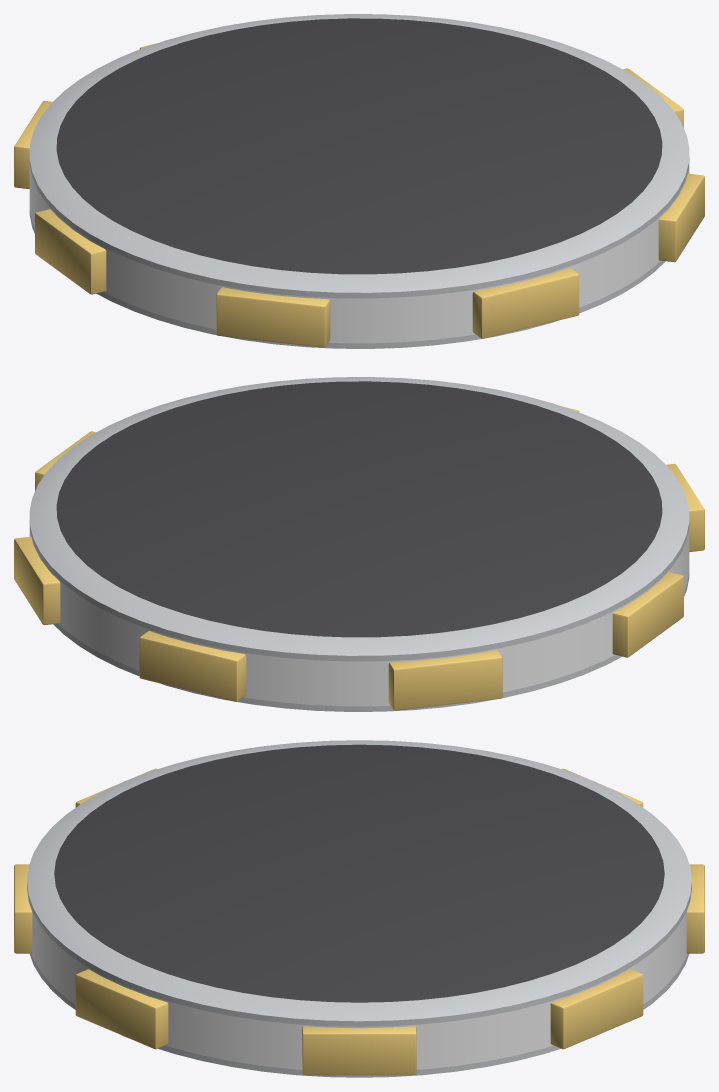
Rendered from battery_m.glb.
The picture shows the model from 3 angles, top to bottom: view 1: azimuth 30°, elevation 25°; view 2: azimuth 150°, elevation 25°; view 3: azimuth 270°, elevation 25°; orthographic projection.
Visible parts, largest first — view 1: battery_m; view 2: battery_m; view 3: battery_m.
Part boxes in pixels (box(x1,y1,x2,y2)): battery_m: box(14, 14, 704, 348); battery_m: box(14, 377, 704, 711); battery_m: box(14, 740, 704, 1077).
Bounding box in the file's own units: 1.33 × 0.15 × 1.33.
